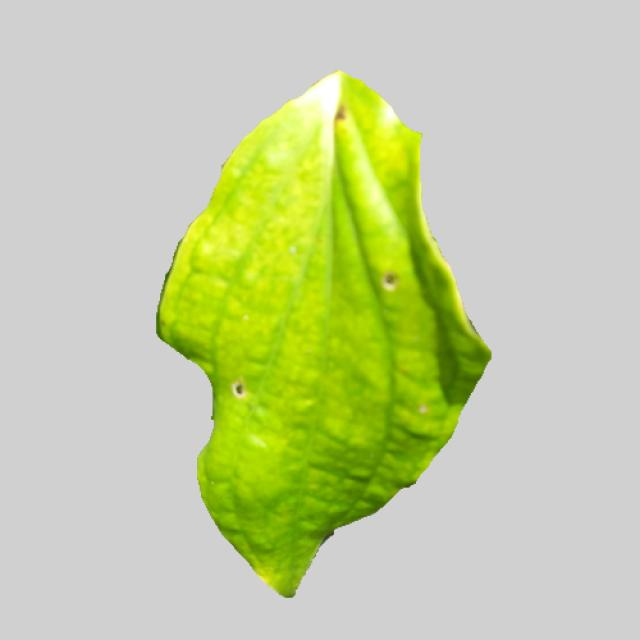yellow-mottle-virus: (98, 80, 510, 600)
